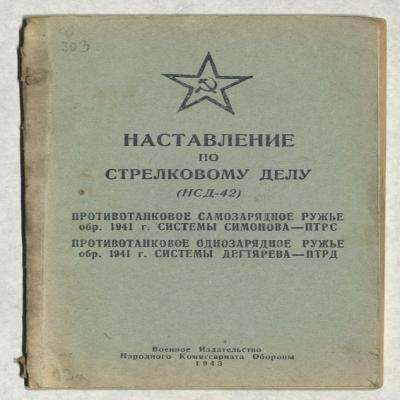printed_products: (29, 0, 400, 400)
